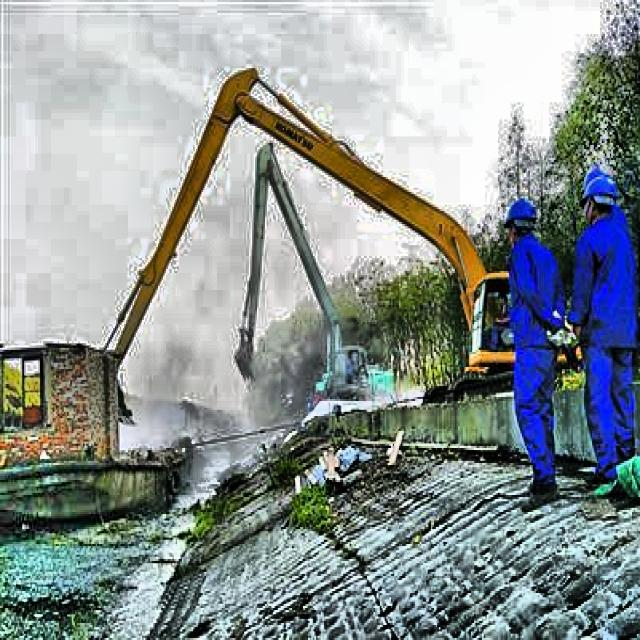helmet: (576, 166, 619, 224), (504, 194, 540, 248)
